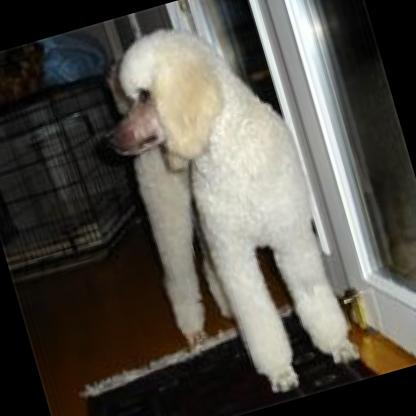standard_poodle: (71, 0, 371, 416)
